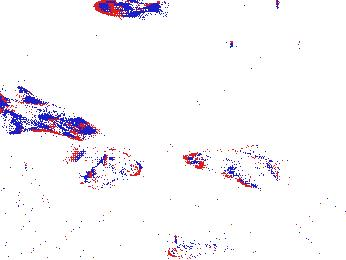X-ray fish: (78, 154, 125, 190)
red belly glassfish: (94, 1, 160, 19), (167, 240, 220, 260)
redtail glassfish: (1, 87, 99, 142), (182, 147, 284, 182), (72, 143, 142, 177)
